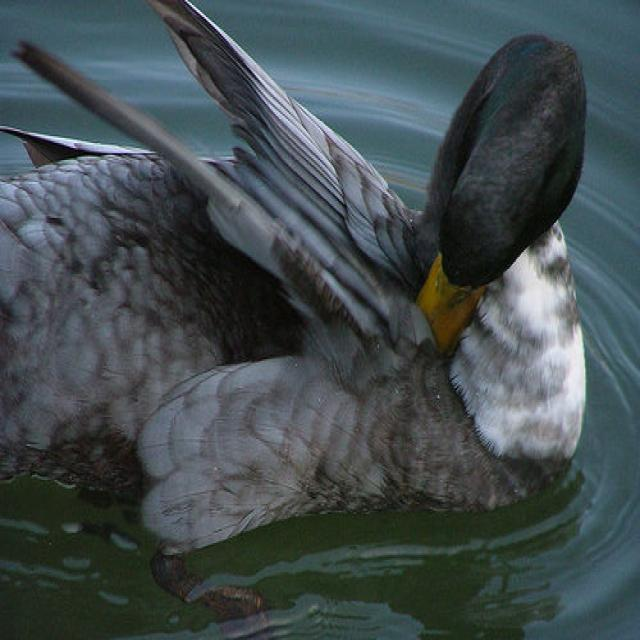bird: (1, 15, 589, 634)
